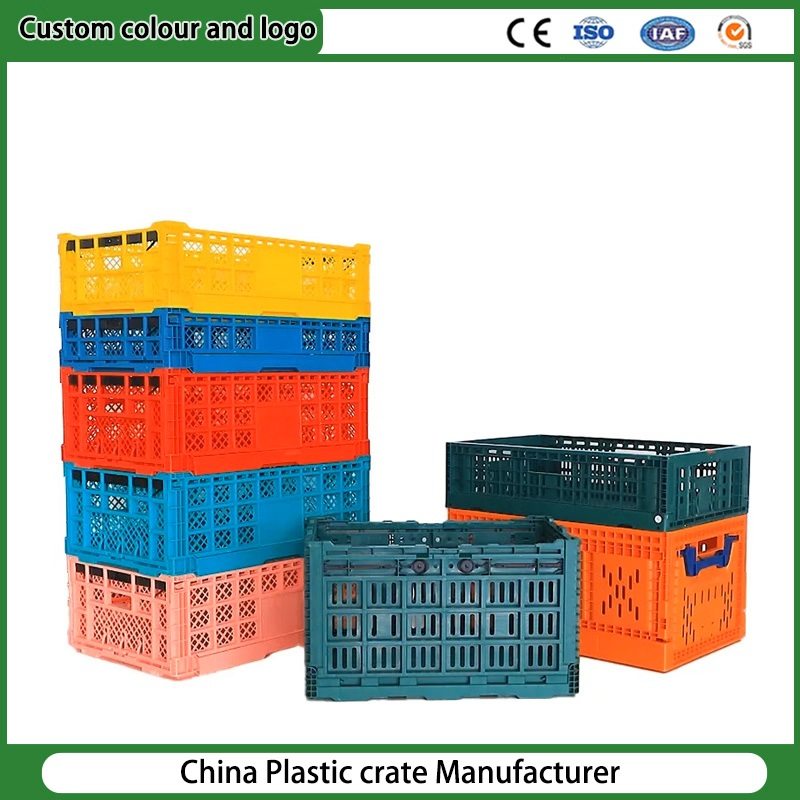bulk_waste: (446, 436, 748, 671), (306, 518, 578, 700), (67, 457, 367, 574), (62, 368, 368, 472), (59, 221, 370, 319), (69, 556, 303, 679), (60, 309, 369, 371)
